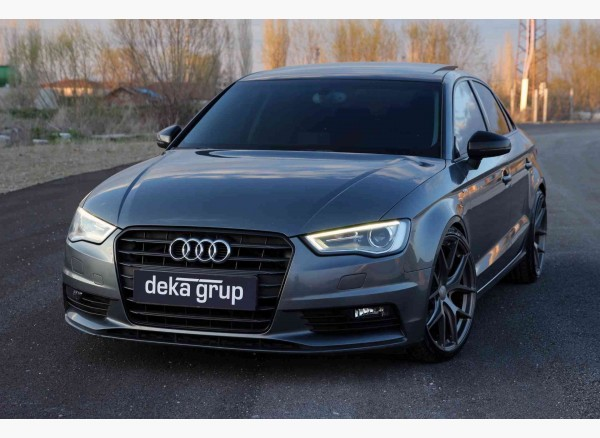audi: (163, 231, 233, 270)
